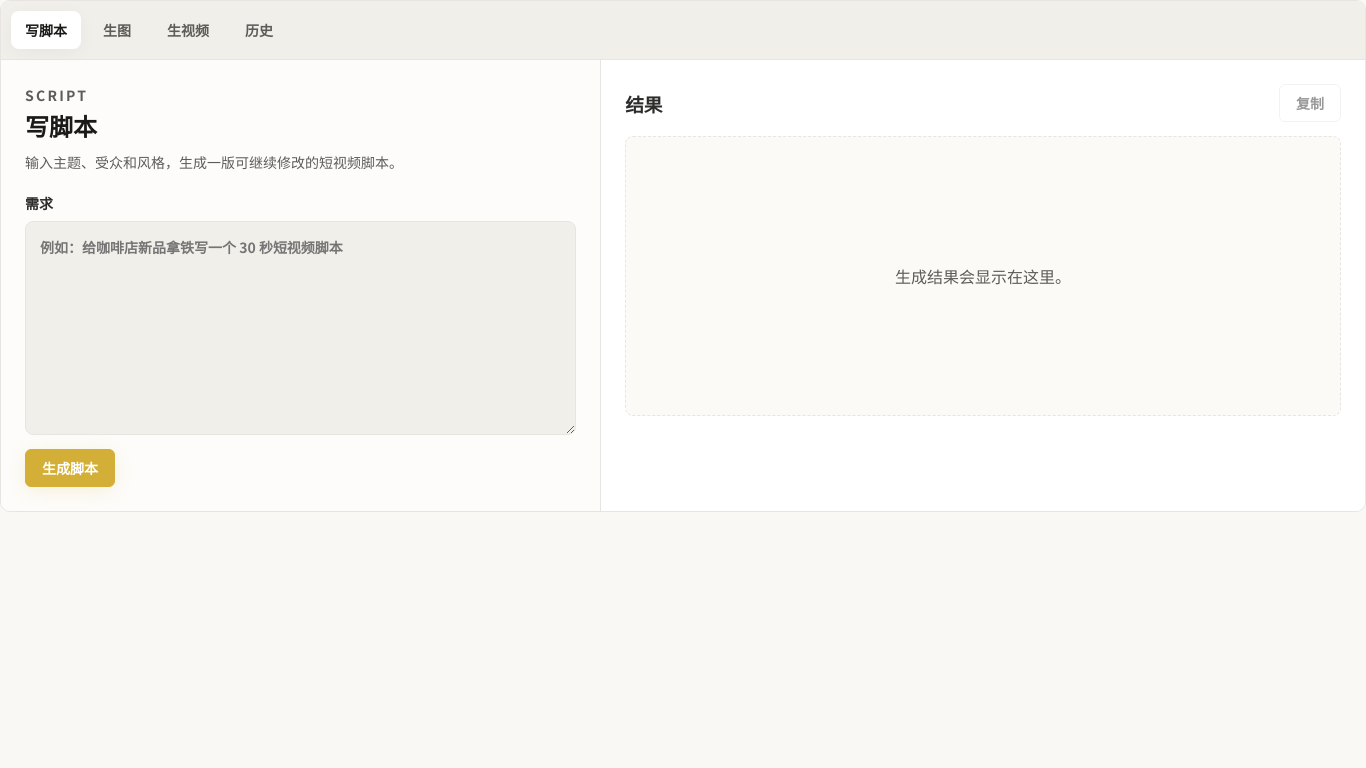
Test case: ToolTabs › shows validation for empty script input
This screenshot has width=1366, height=768.
Click the button "生成脚本": point(70, 468) [25,449,115,487]
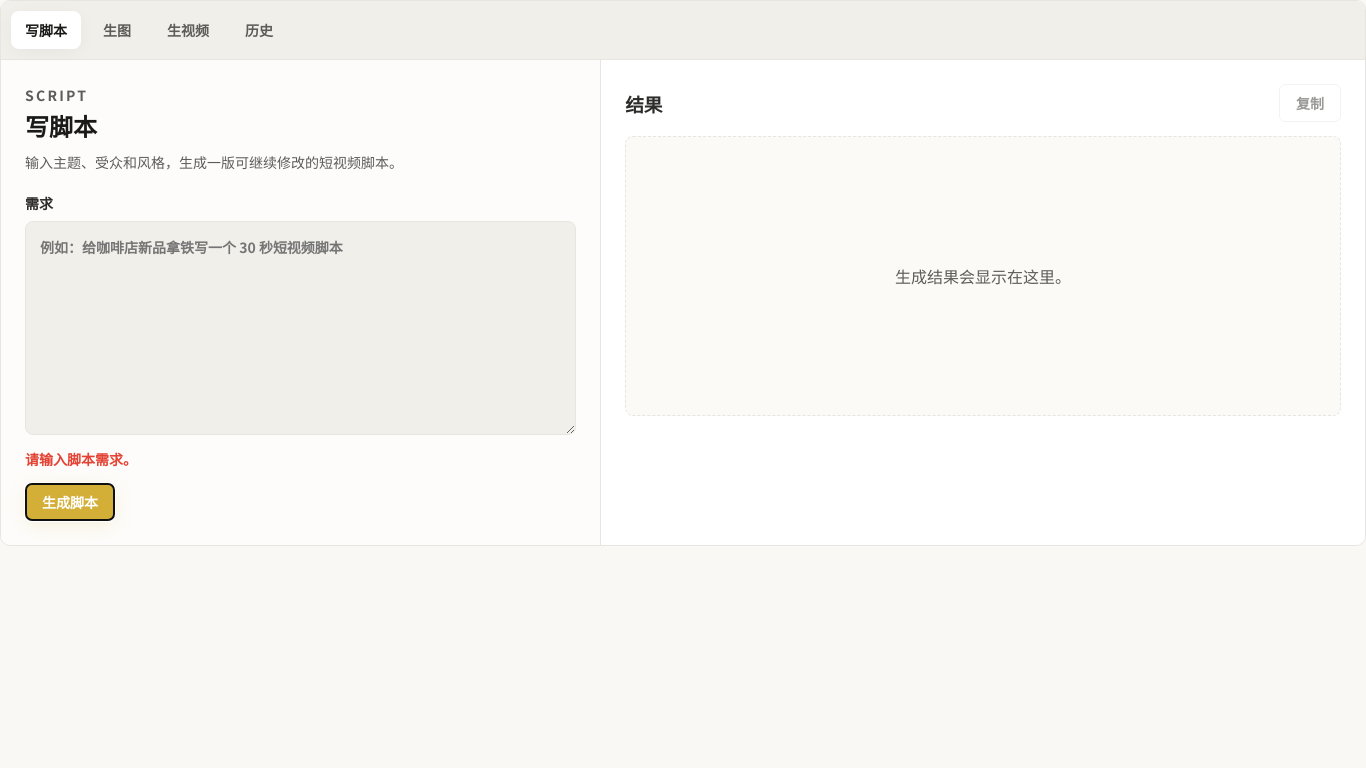
Expected: the text "请输入脚本需求。" is shown, [25,449,137,469]
